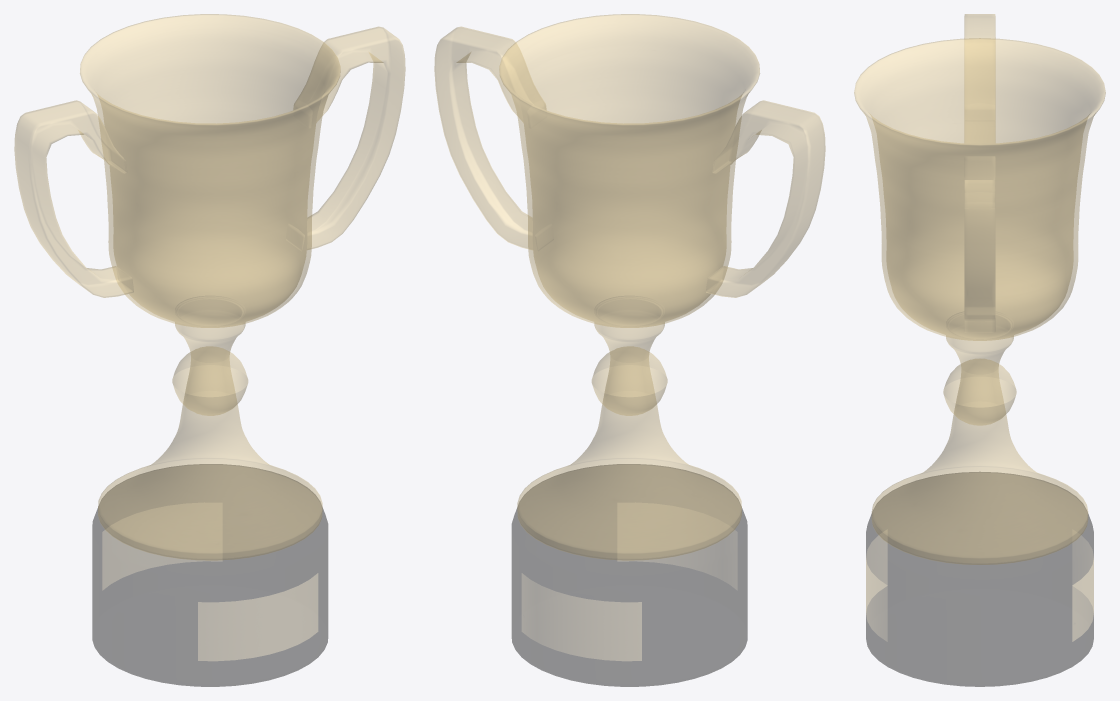
File: japon.glb
The picture shows the model from 3 angles, left to right: view 1: azimuth 30°, elevation 25°; view 2: azimuth 150°, elevation 25°; view 3: azimuth 270°, elevation 25°; orthographic projection. The views are drawn at different scales.
Visible parts, largest first — view 1: cup; view 2: cup; view 3: cup.
Boxes of the visible parts, box(x1,y1,x2,y2) form: cup: box(14, 14, 405, 686); cup: box(434, 14, 825, 686); cup: box(854, 14, 1105, 686).
Bounding box in the file's own units: 1.35 × 1.95 × 0.813.
6 materials, 6 textured.
